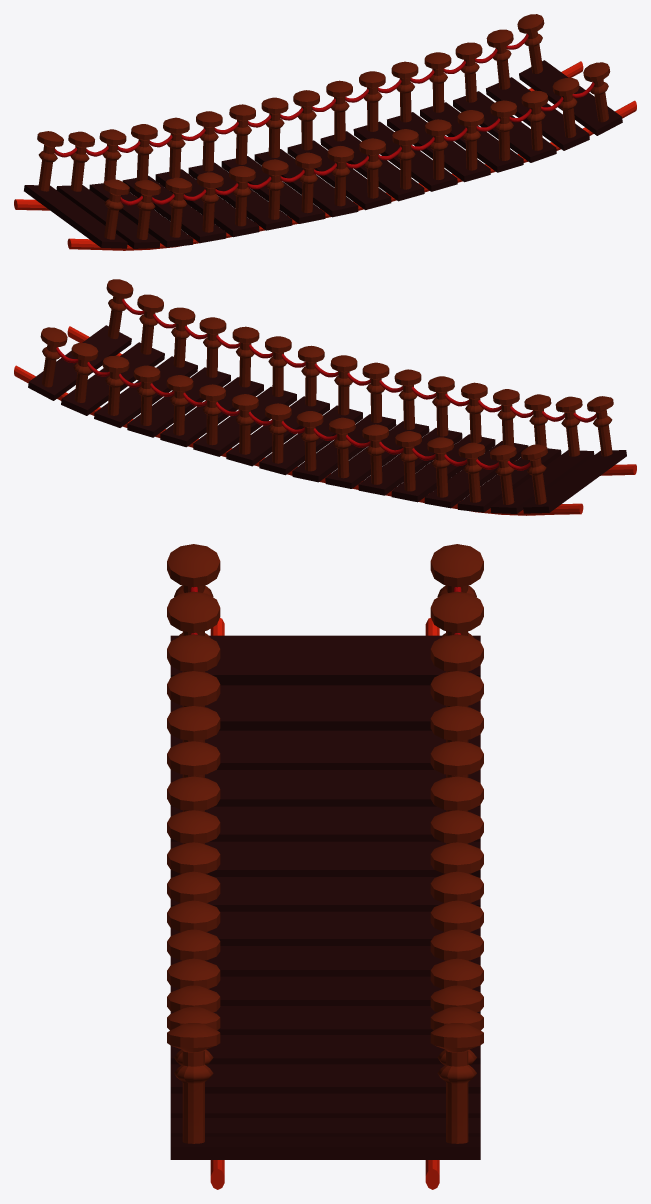
Rendered from Bridge.dae.
3 renders of one model, top to bottom at view 1: azimuth 30°, elevation 25°; view 2: azimuth 150°, elevation 25°; view 3: azimuth 270°, elevation 25°, orthographic. The views are drawn at different scales.
Visible parts, largest first — view 1: polySurface55_ncl1_1, pasted__polySurface85_ncl1_1, polySurface36_ncl1_1, polySurface100_ncl1_1; view 2: polySurface55_ncl1_1, pasted__polySurface85_ncl1_1, polySurface36_ncl1_1, polySurface100_ncl1_1; view 3: pasted__polySurface85_ncl1_1, polySurface55_ncl1_1, polySurface100_ncl1_1.
Part boxes in pixels (x1,y1,x2,y2): polySurface55_ncl1_1: (37, 14, 610, 239); pasted__polySurface85_ncl1_1: (24, 60, 622, 248); polySurface36_ncl1_1: (54, 34, 594, 205); polySurface100_ncl1_1: (14, 61, 636, 250); polySurface55_ncl1_1: (40, 279, 613, 504); pasted__polySurface85_ncl1_1: (28, 325, 626, 513); polySurface36_ncl1_1: (56, 299, 596, 470); polySurface100_ncl1_1: (14, 326, 636, 515); pasted__polySurface85_ncl1_1: (170, 635, 480, 1159); polySurface55_ncl1_1: (167, 544, 483, 1143); polySurface100_ncl1_1: (210, 617, 439, 1189).
Size of the model in its own units: 19.1 by 3.08 by 4.63.
